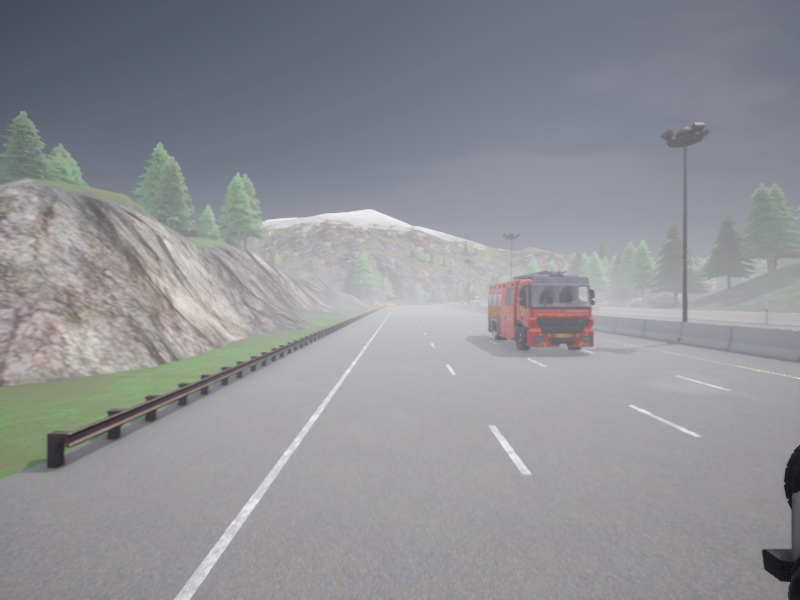vehicle: (488, 270, 594, 350), (762, 444, 799, 599), (470, 296, 481, 304), (475, 302, 479, 305), (458, 302, 463, 304), (467, 303, 470, 304)
